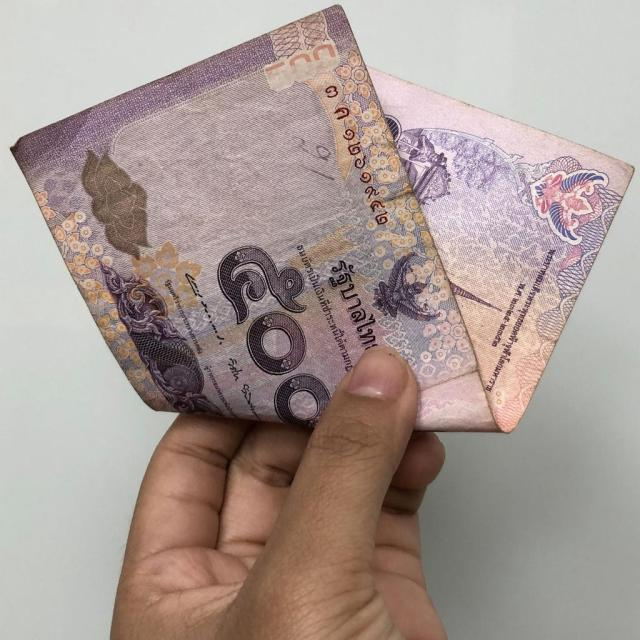THAI500: (11, 6, 634, 432)
